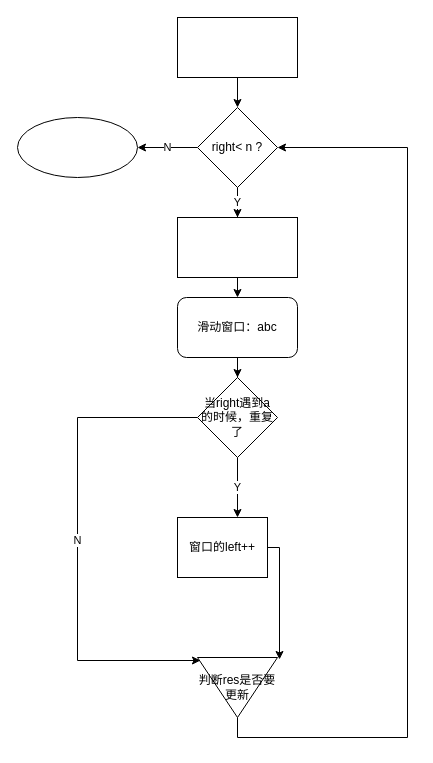
The diagram is 433 pixels wide and 763 high, and some of its shapes have lost their labels. The centre of each missing label's shape, as x and y in pixels:
abcabcbb: (x=237, y=47)
return res: (x=77, y=147)
right++: (x=237, y=247)
